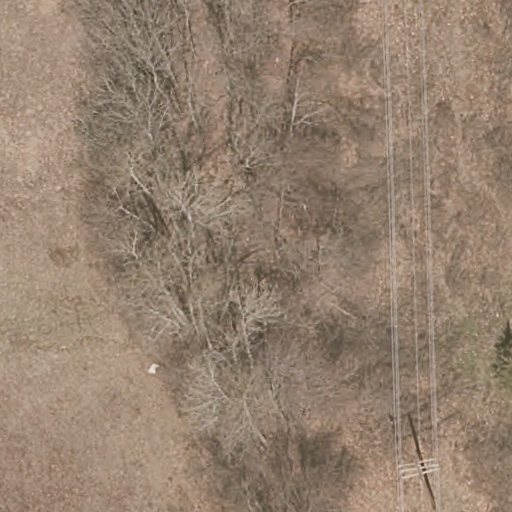DT: (396, 456, 440, 512)
